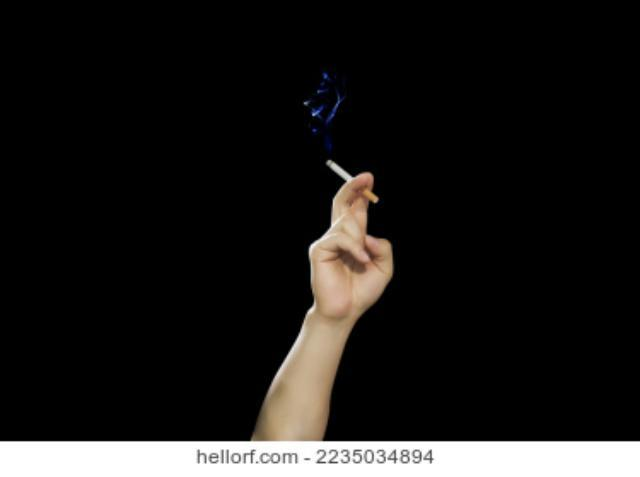Smoking: (312, 150, 398, 208)
